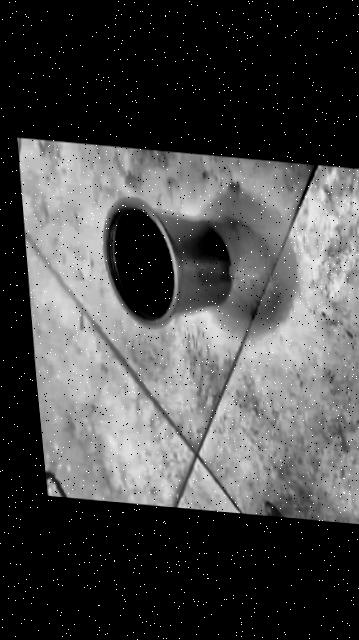pot: (95, 197, 236, 335)
